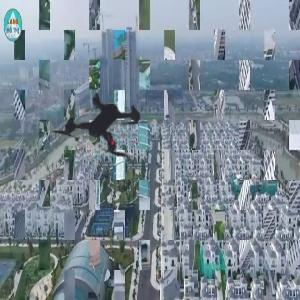drone: (29, 53, 179, 203)
